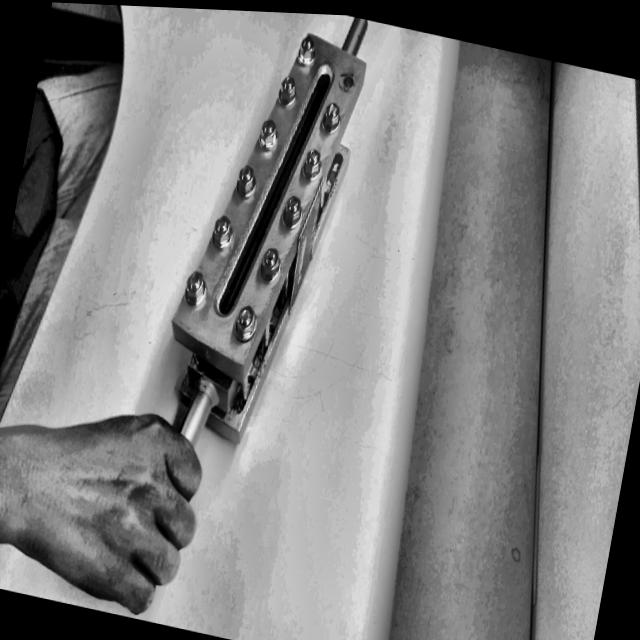ShuiWeiQi_11: (154, 5, 394, 464)
